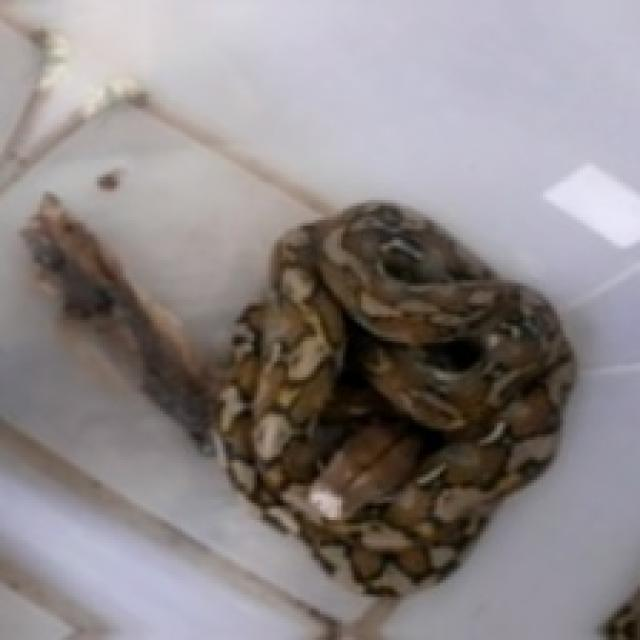reticulated python: (214, 203, 571, 591)
